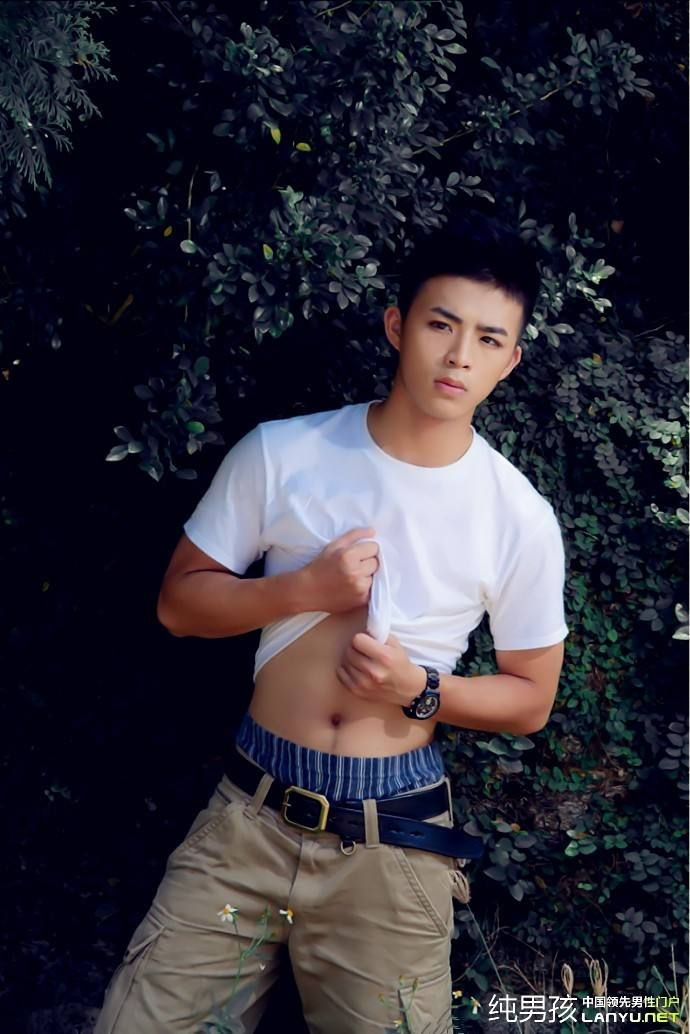person: (189, 221, 560, 1034)
